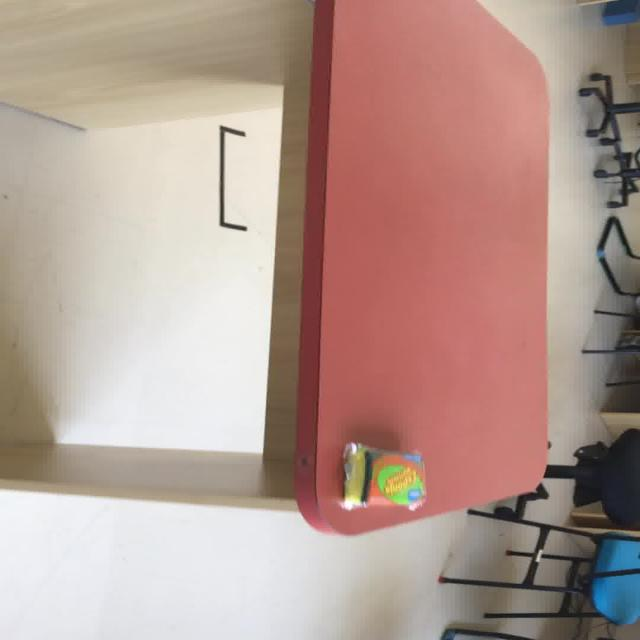sponge: (340, 442, 426, 512), (588, 531, 638, 626), (368, 449, 426, 511), (339, 441, 367, 510)
